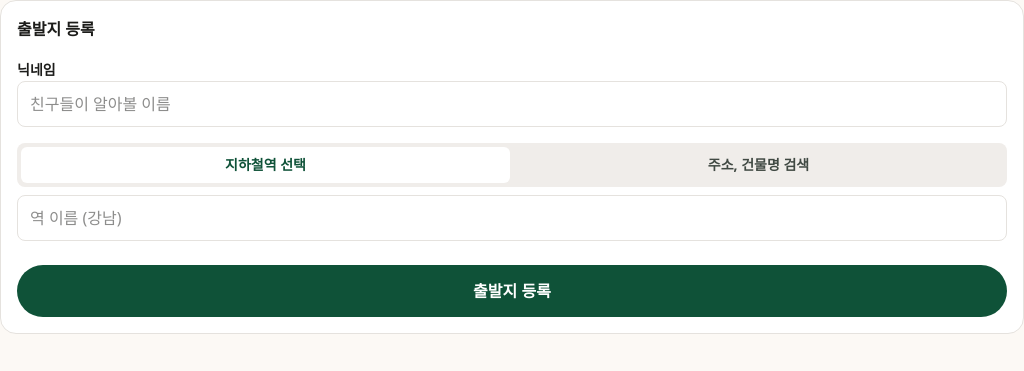
Test: 역 검색 요청이 실패하면 연결 안내 문구를 보여준다
In the field named "출발지 검색": (512, 218) [17, 195, 1007, 241], type "강남"
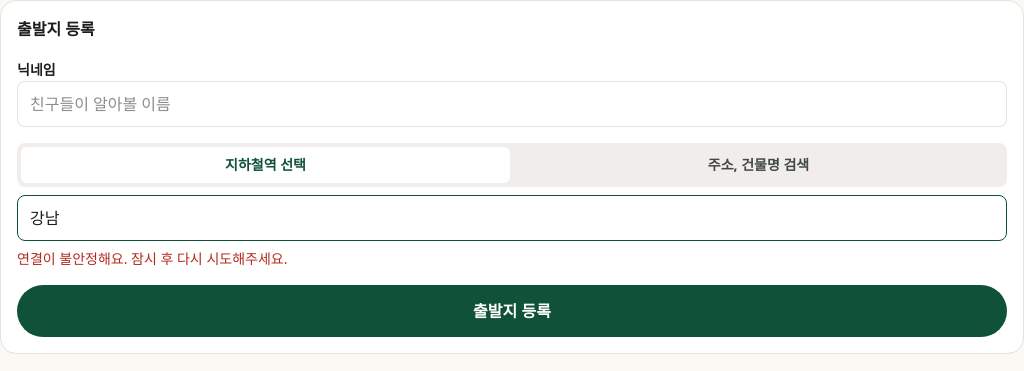
Expected: the text "연결이 불안정해요. 잠시 후 다시 시도해주세요." is shown, [17, 249, 287, 268]
